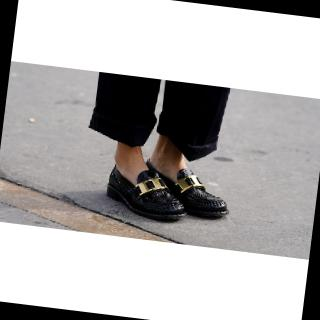loafers: (100, 150, 239, 231)
